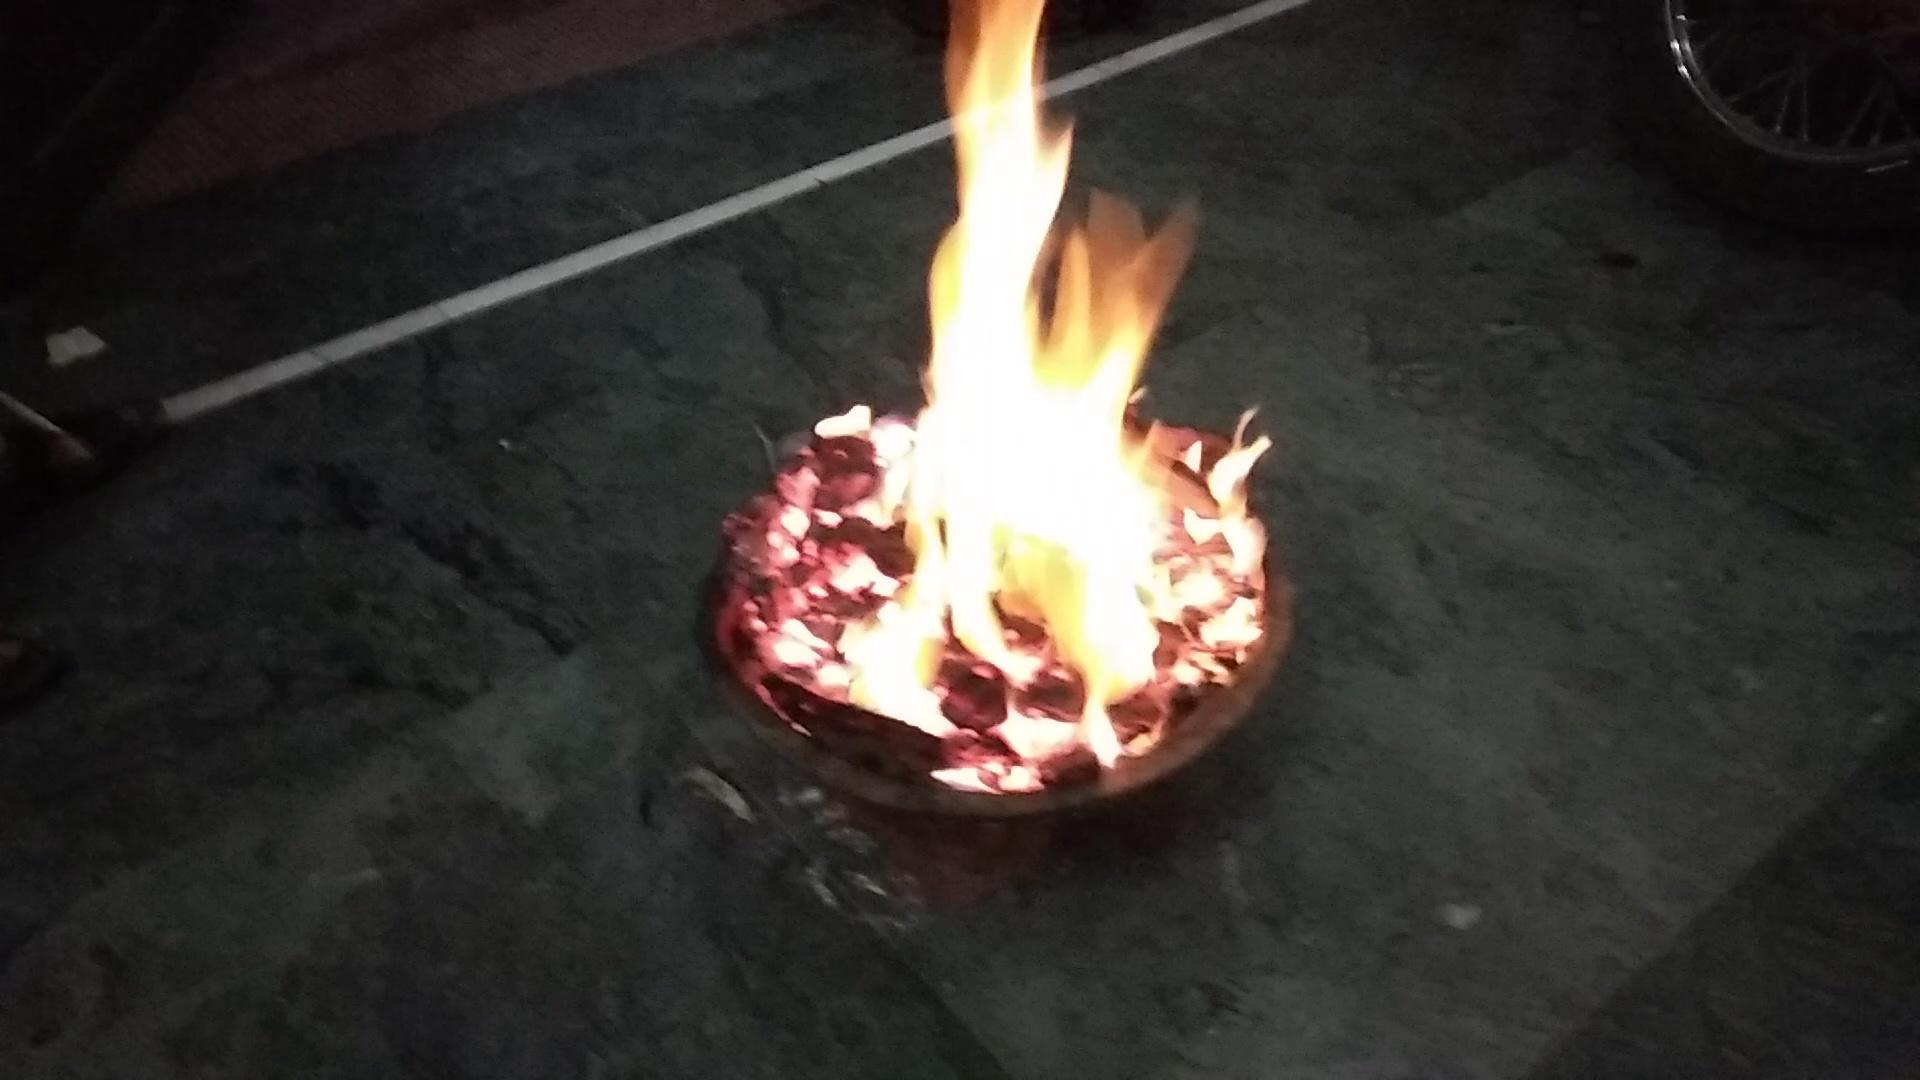fire: (898, 0, 1162, 683)
